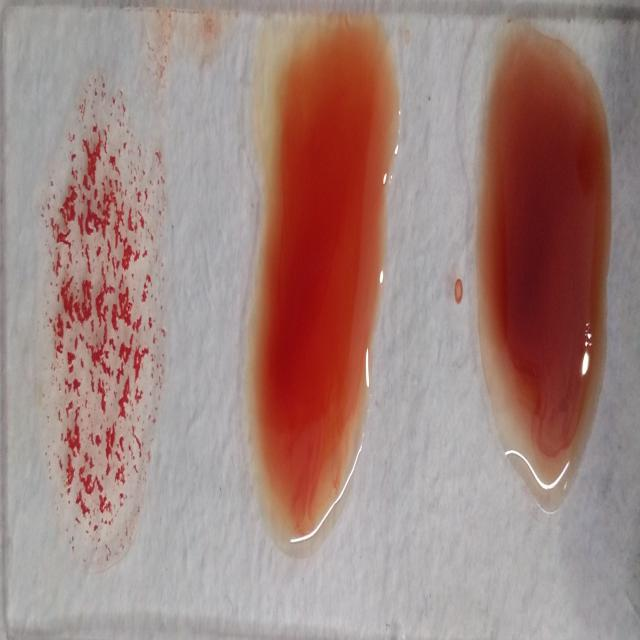D: (47, 61, 154, 560)
